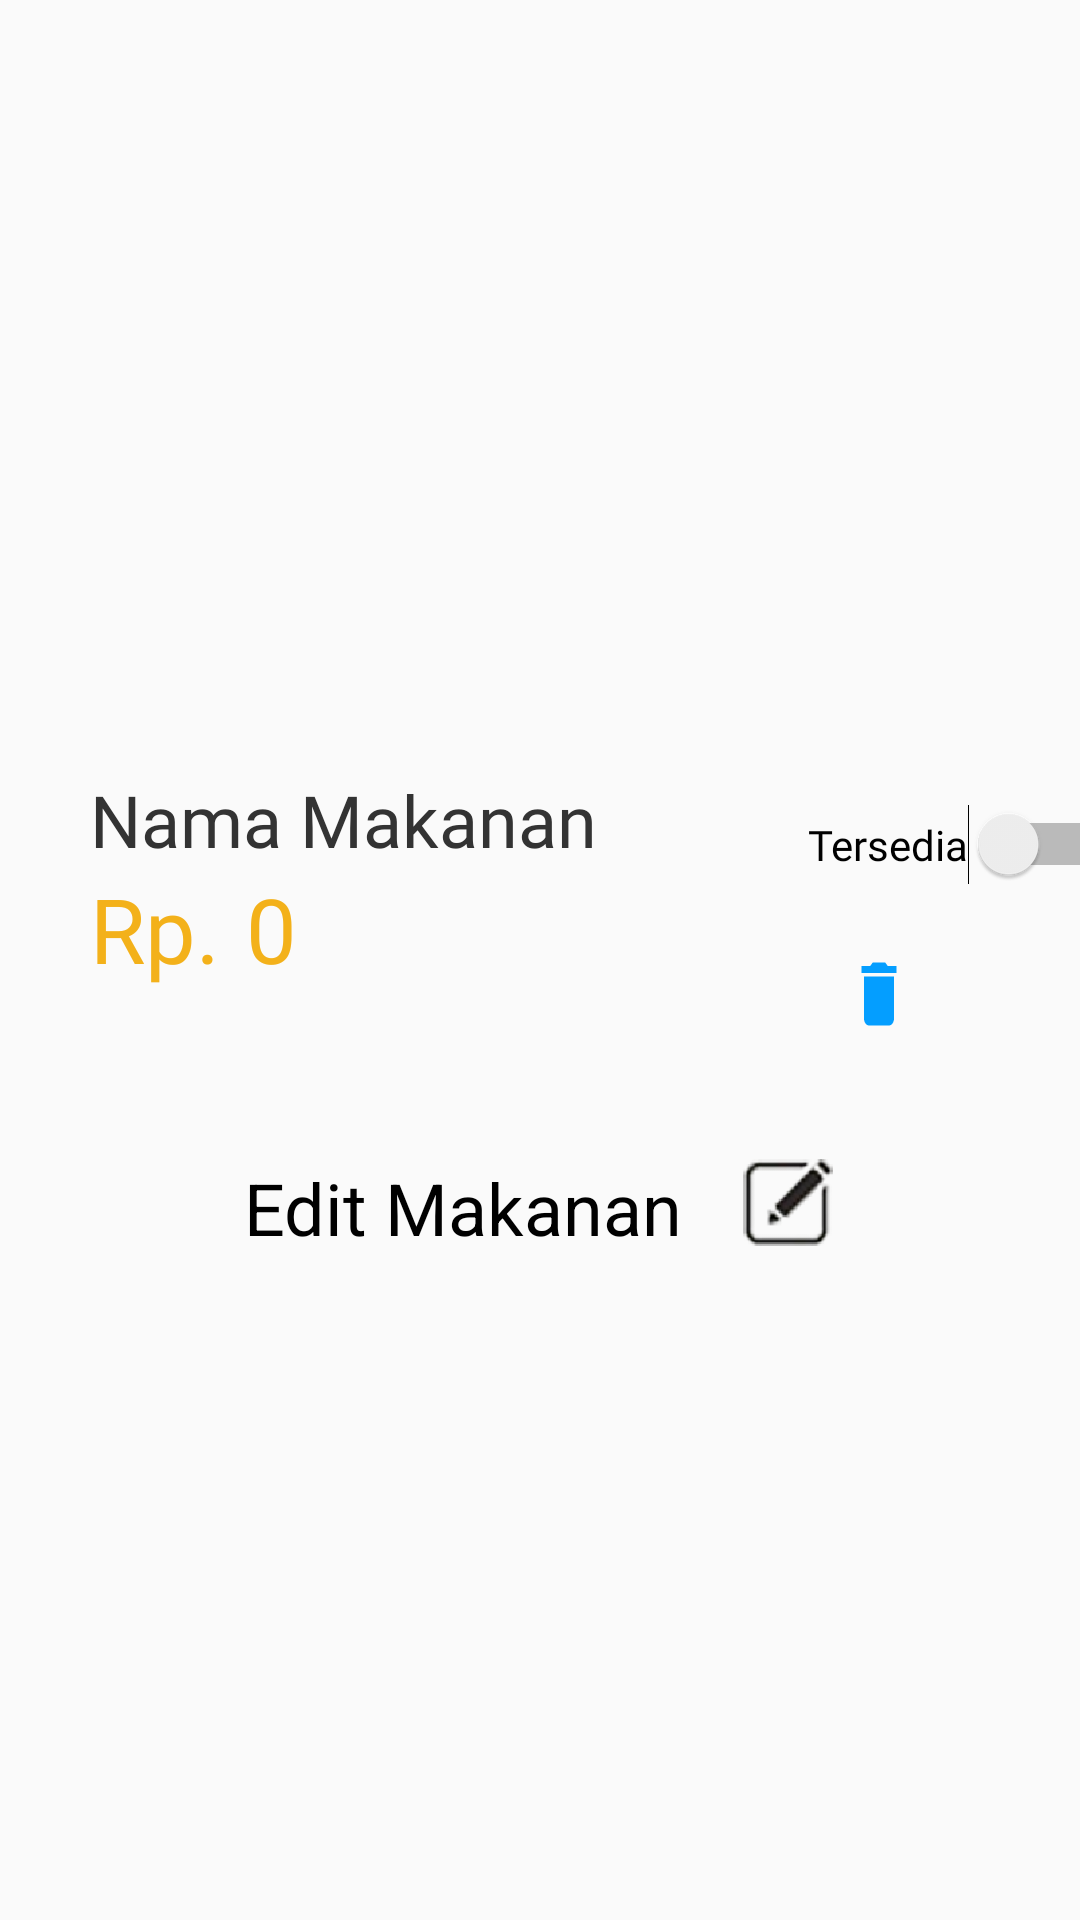

Icon bounding boxes for this 1080x1920 phone screenshot, format (x1, y1, x2, y2):
delete: (861, 962, 897, 1026)
